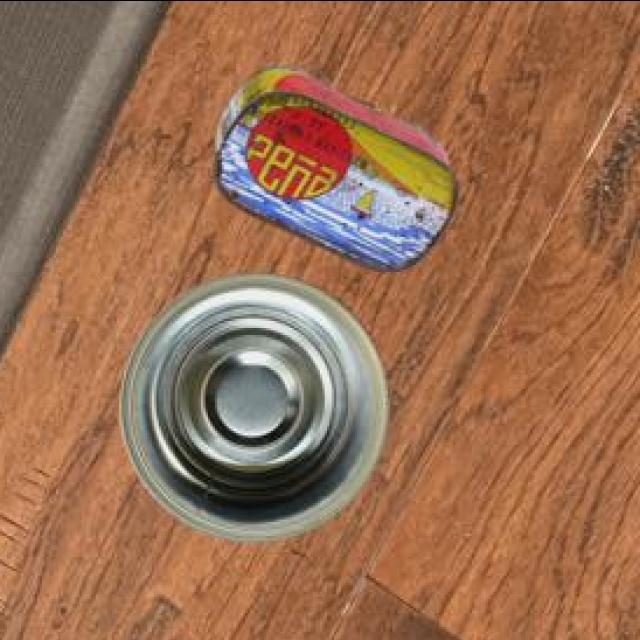logam: (118, 274, 387, 545), (211, 67, 454, 274)
